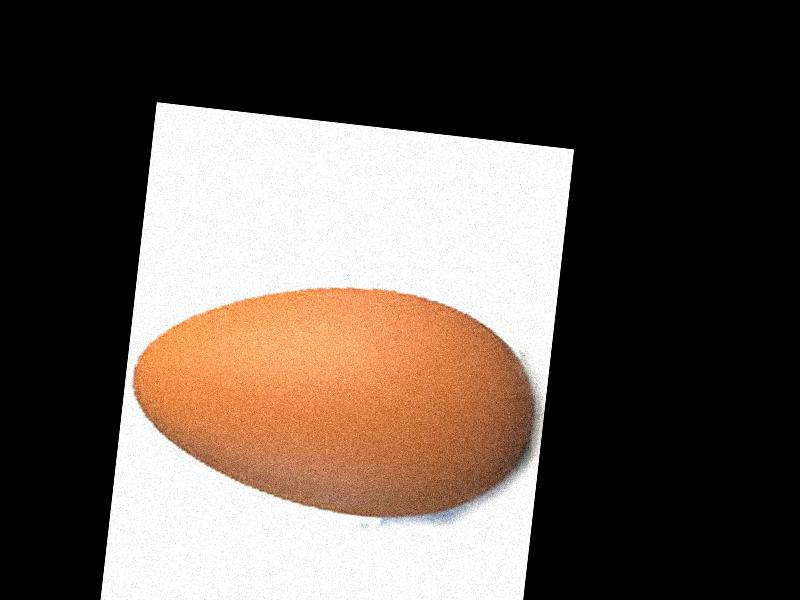Eggs: (123, 263, 546, 532)
